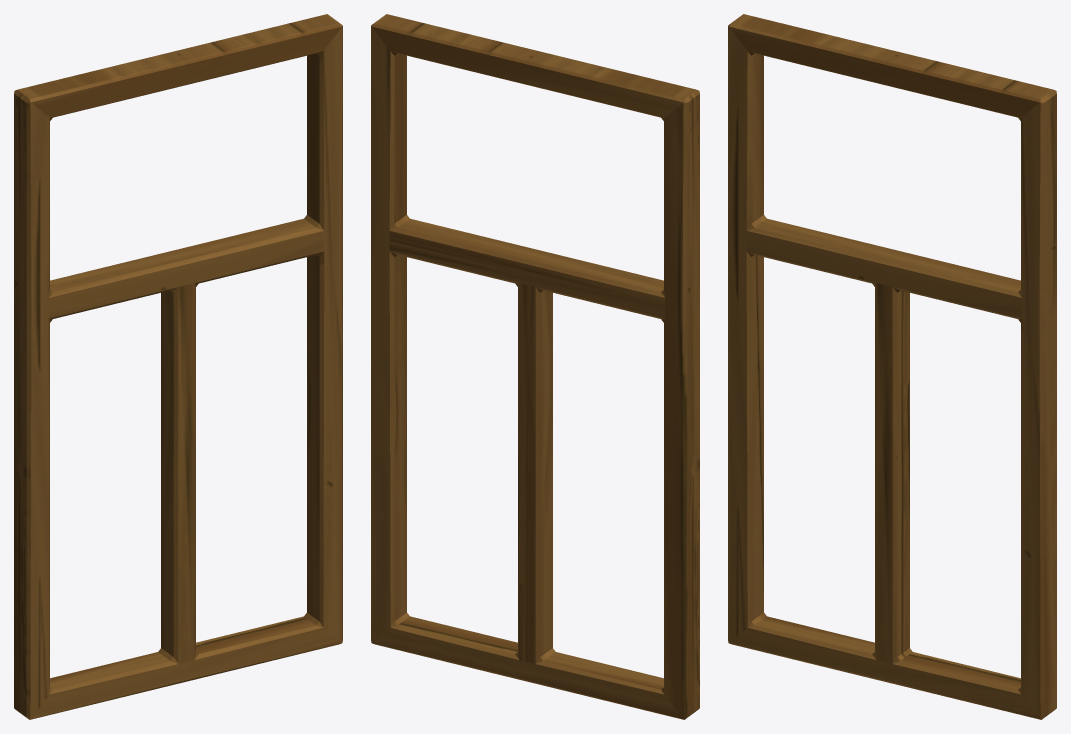
The model's file is Frame is straight.fbx.
3 views of the same model, side by side, from view 1: azimuth 30°, elevation 25°; view 2: azimuth 150°, elevation 25°; view 3: azimuth 330°, elevation 25° (orthographic).
Parts seen in each view (by area): view 1: Frame is straight; view 2: Frame is straight; view 3: Frame is straight.
Part boxes in pixels (left/top/right/bottom): Frame is straight: left=14, top=14, right=342, bottom=719; Frame is straight: left=371, top=14, right=699, bottom=719; Frame is straight: left=728, top=14, right=1056, bottom=719.
Bounding box in the file's own units: 51.89 × 97.35 × 4.55.
